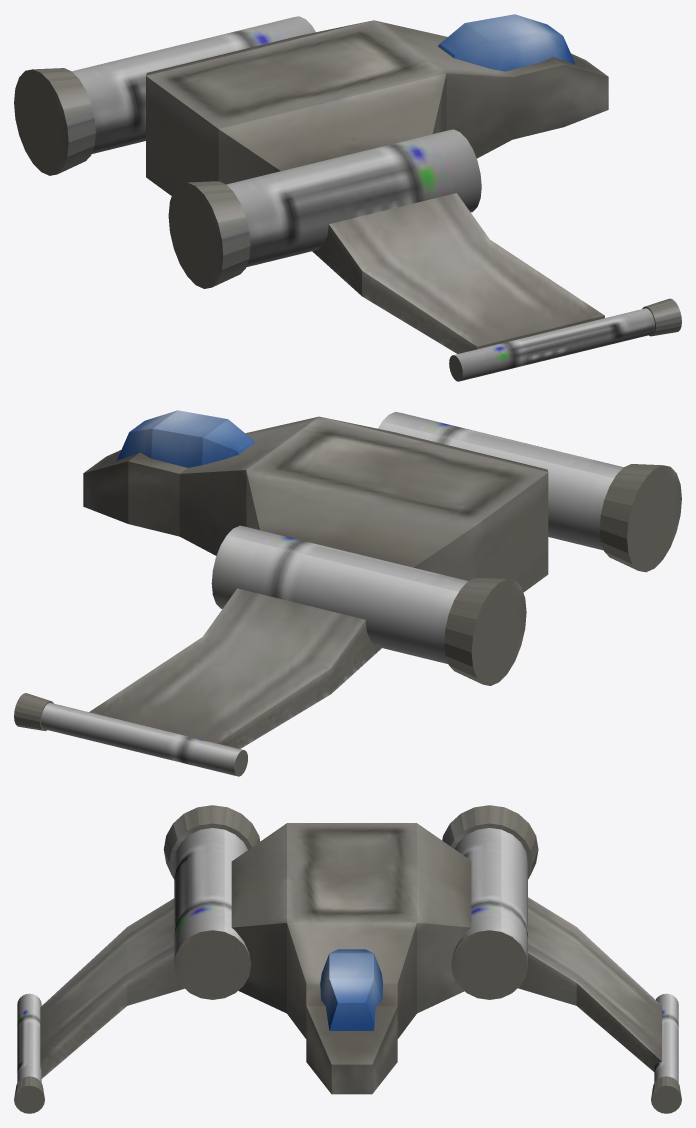
File: spaceship.fbx
The picture shows the model from 3 angles, top to bottom: view 1: azimuth 30°, elevation 25°; view 2: azimuth 150°, elevation 25°; view 3: azimuth 270°, elevation 25°; orthographic projection. The views are drawn at different scales.
Visible parts, largest first — view 1: polySurface1; view 2: polySurface1; view 3: polySurface1.
Boxes of the visible parts, x1,y1,x2,y2 form: polySurface1: [14, 14, 681, 381]; polySurface1: [14, 410, 681, 776]; polySurface1: [14, 805, 681, 1113].
Size of the model in its own units: 40.5 by 13.96 by 54.61.
